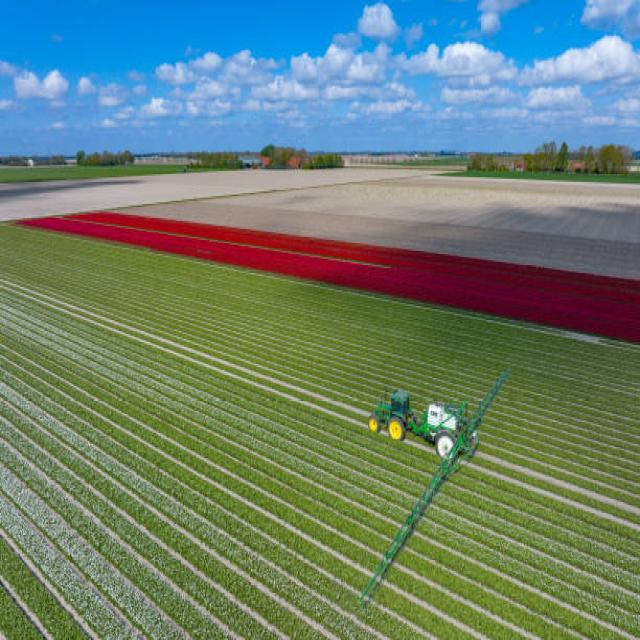Tratores - v5 YOLO V8L 2024-11-13: (368, 388, 410, 444)
